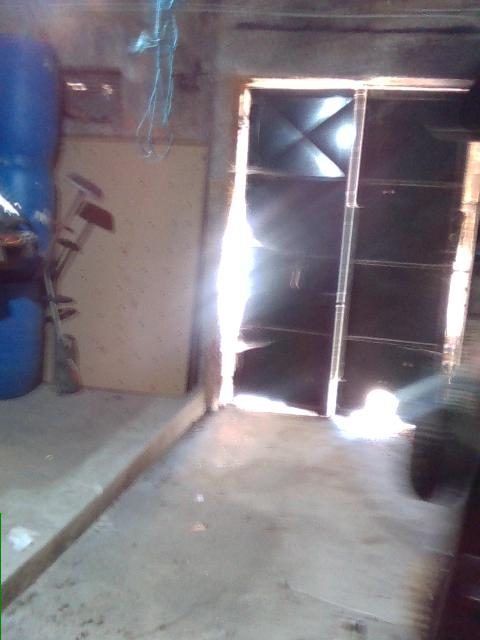door: (215, 75, 478, 410)
